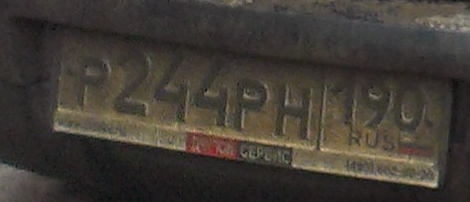character: (193, 51, 233, 130), (115, 50, 155, 117), (157, 50, 193, 123), (275, 82, 314, 141), (75, 55, 111, 114), (360, 73, 393, 136), (393, 74, 427, 133), (235, 77, 269, 133), (332, 69, 358, 126)
